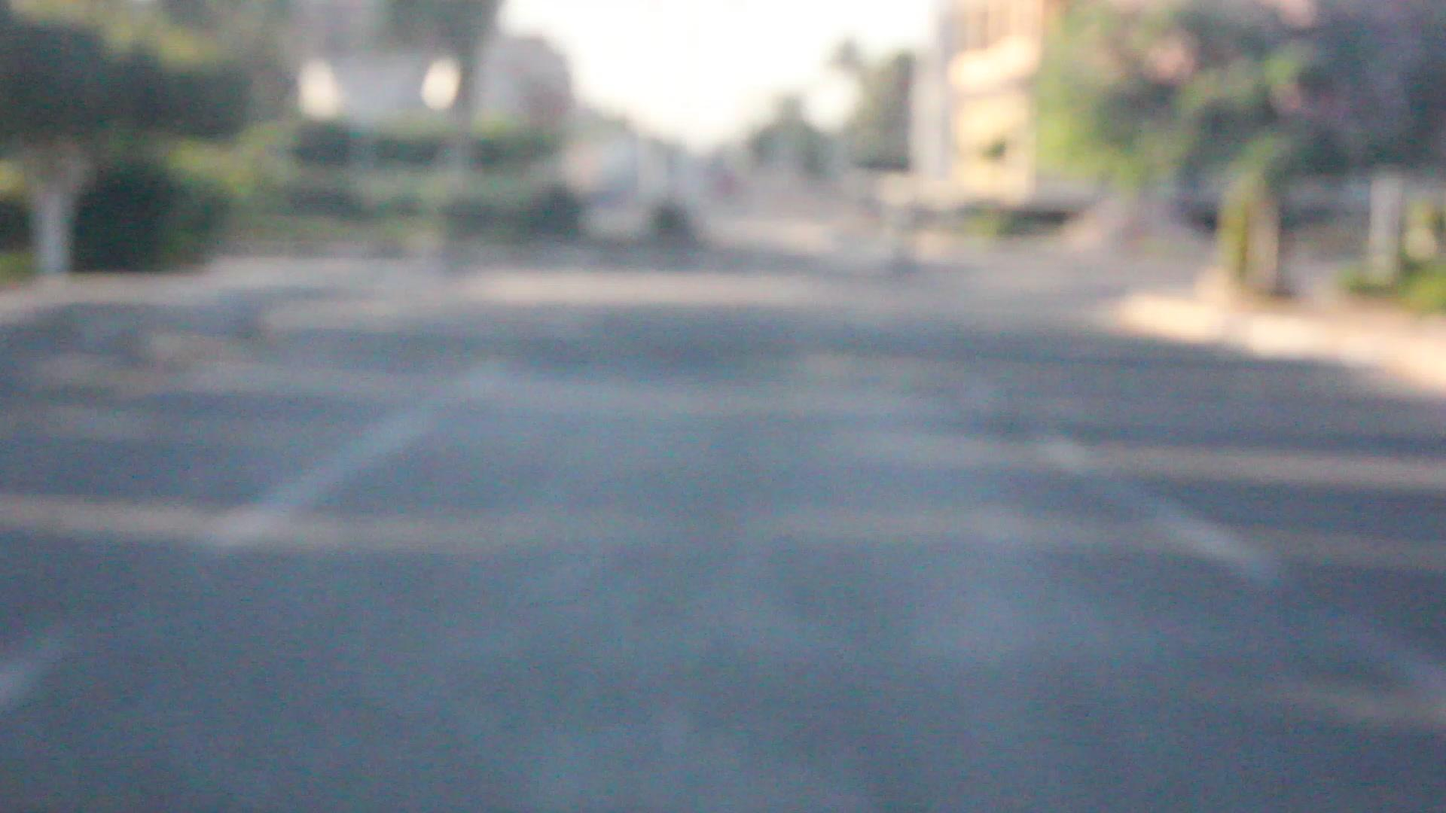Bump: (184, 326, 1425, 401)
